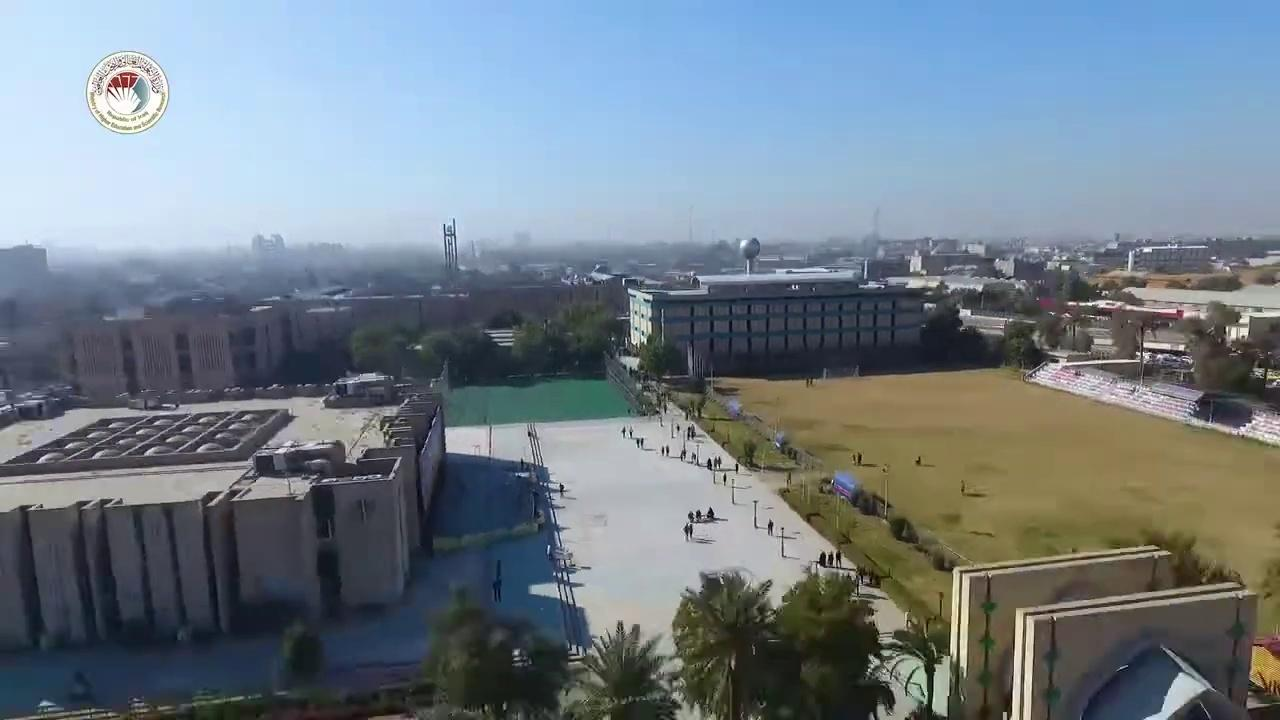person: (490, 553, 507, 586), (490, 574, 506, 600), (850, 452, 866, 469), (819, 554, 837, 568), (827, 547, 842, 563), (686, 510, 704, 522), (684, 521, 695, 539), (706, 507, 720, 520), (622, 424, 635, 438), (660, 443, 670, 460), (766, 518, 773, 535), (713, 455, 722, 468), (634, 439, 646, 448), (706, 458, 713, 472), (558, 482, 564, 496)
tree: (406, 563, 948, 718), (411, 586, 572, 719), (771, 571, 891, 718), (670, 567, 781, 718), (561, 619, 678, 718), (1173, 299, 1255, 391), (886, 612, 951, 718), (278, 617, 323, 688), (348, 321, 402, 374), (918, 304, 962, 360), (1001, 317, 1039, 369), (510, 320, 545, 370), (541, 321, 573, 374), (636, 332, 669, 383), (1203, 299, 1241, 343), (741, 437, 757, 467)
